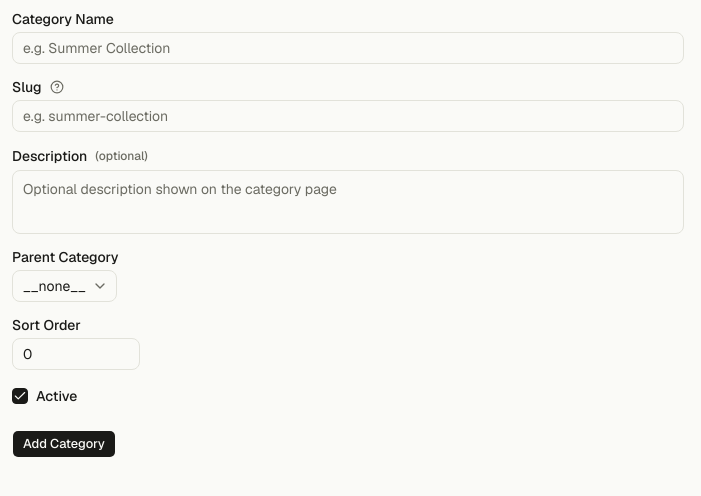
Test: CategoryForm › handles a 422 parentId error
Type "X" into the field labelled "Category Name" at (348, 48), box [12, 32, 684, 64]
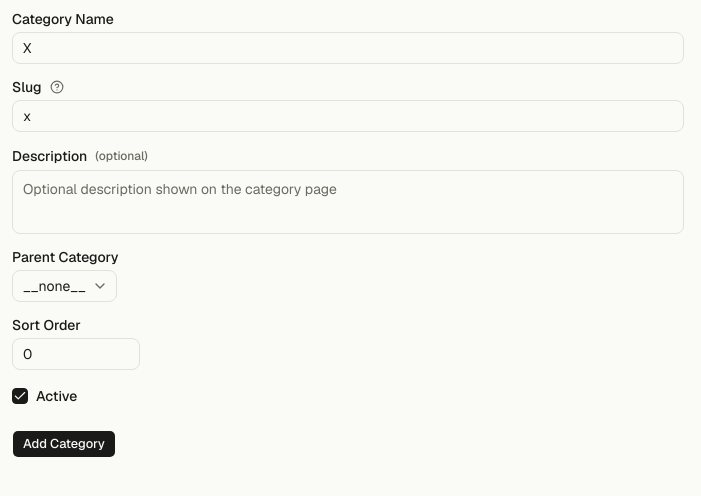
Click the button "Add Category" at (64, 444), box [12, 430, 116, 458]
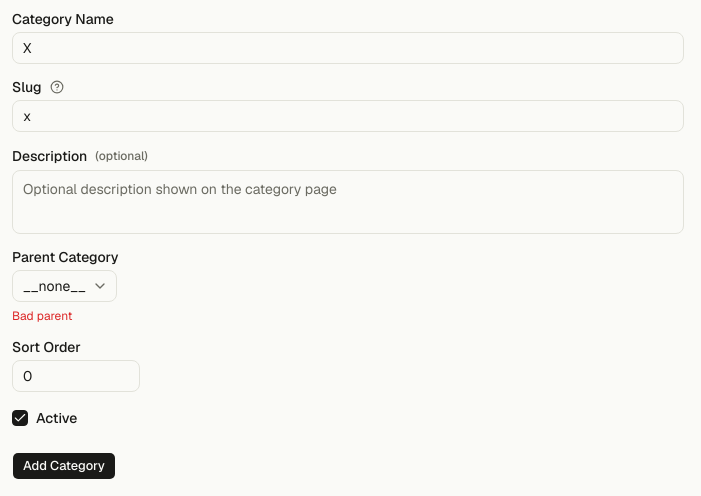
Expected: the text "Bad parent" is shown, [12, 308, 72, 324]
